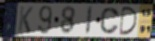8: (60, 5, 76, 35)
9: (36, 5, 53, 36)
C: (99, 7, 120, 36)
D: (119, 6, 139, 36)
I: (84, 5, 94, 36)
K: (17, 6, 34, 35)
